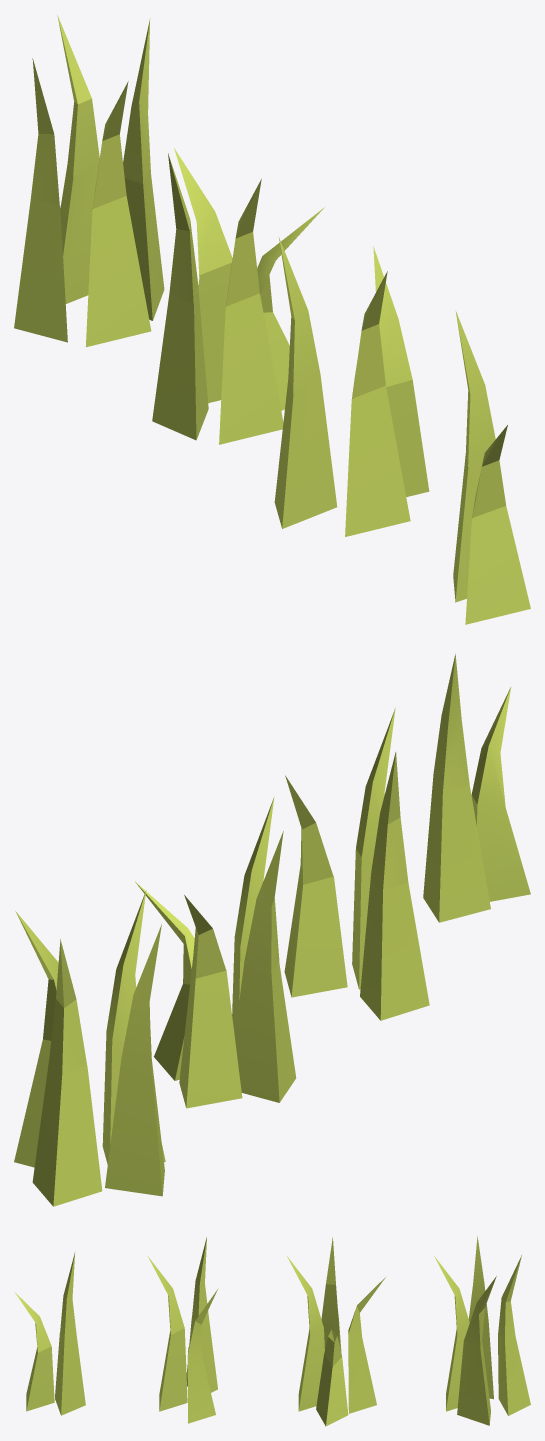
Rendered from low_poly_grass.glb.
The picture shows the model from 3 angles, top to bottom: view 1: azimuth 30°, elevation 25°; view 2: azimuth 150°, elevation 25°; view 3: azimuth 270°, elevation 25°; orthographic projection. The views are drawn at different scales.
Visible parts, largest first — view 1: Cone.011, Cone.006, Cone.002, Cone; view 2: Cone.011, Cone.006, Cone.002, Cone; view 3: Cone.011, Cone.006, Cone.002, Cone.
Boxes of the visible parts, left/top/right/bottom form: Cone.011: left=14, top=15, right=164, bottom=347; Cone.006: left=152, top=148, right=324, bottom=444; Cone.002: left=274, top=237, right=429, bottom=536; Cone: left=453, top=310, right=530, bottom=624; Cone.011: left=14, top=890, right=165, bottom=1206; Cone.006: left=135, top=797, right=296, bottom=1108; Cone.002: left=284, top=708, right=429, bottom=1020; Cone: left=423, top=653, right=530, bottom=922; Cone.011: left=434, top=1236, right=530, bottom=1425; Cone.006: left=287, top=1237, right=385, bottom=1426; Cone.002: left=148, top=1237, right=218, bottom=1423; Cone: left=15, top=1252, right=85, bottom=1415.
Size of the model in its own units: 0.2284 by 0.3424 by 1.05.
Materials: 1 (1 with a texture image).
